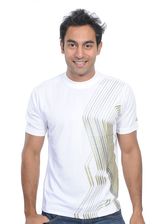clothoes: (23, 73, 142, 214)
